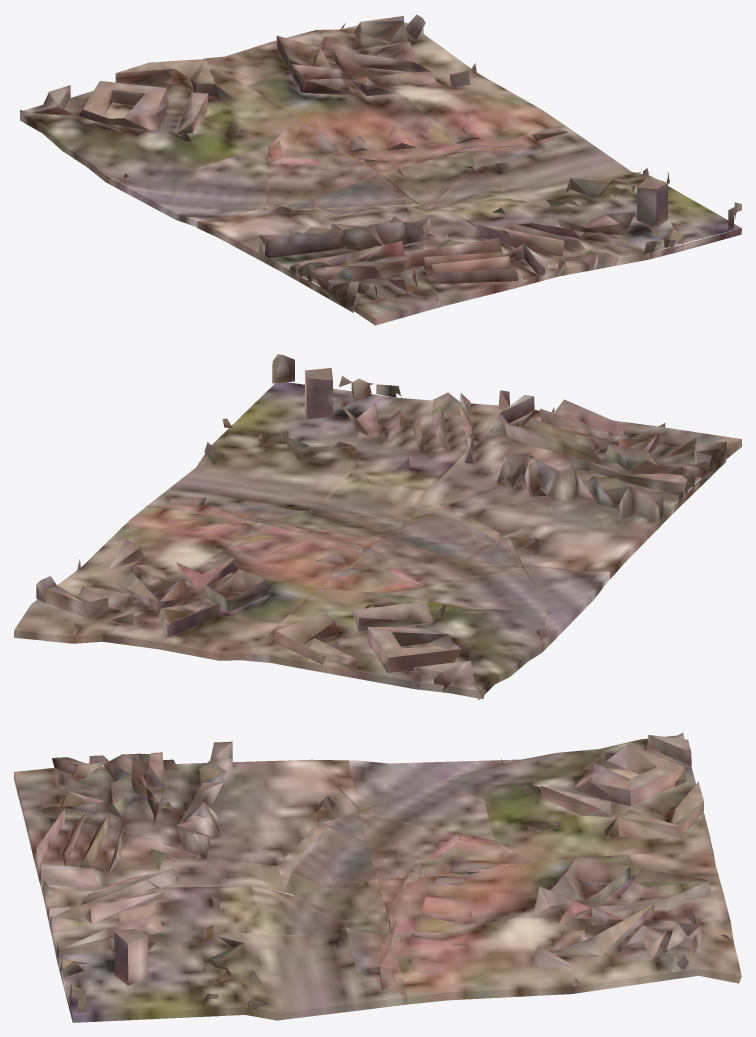
The picture shows the model from 3 angles, top to bottom: view 1: azimuth 30°, elevation 25°; view 2: azimuth 150°, elevation 25°; view 3: azimuth 270°, elevation 25°; orthographic projection. The views are drawn at different scales.
Visible parts, largest first — view 1: Mesh_0; view 2: Mesh_0; view 3: Mesh_0.
Part boxes in pixels (left/top/right/bottom): Mesh_0: left=20, top=14, right=741, bottom=325; Mesh_0: left=14, top=354, right=741, bottom=700; Mesh_0: left=14, top=733, right=741, bottom=1022.
Bounding box in the file's own units: 540 × 62.13 × 659.
1 material, 1 textured.
